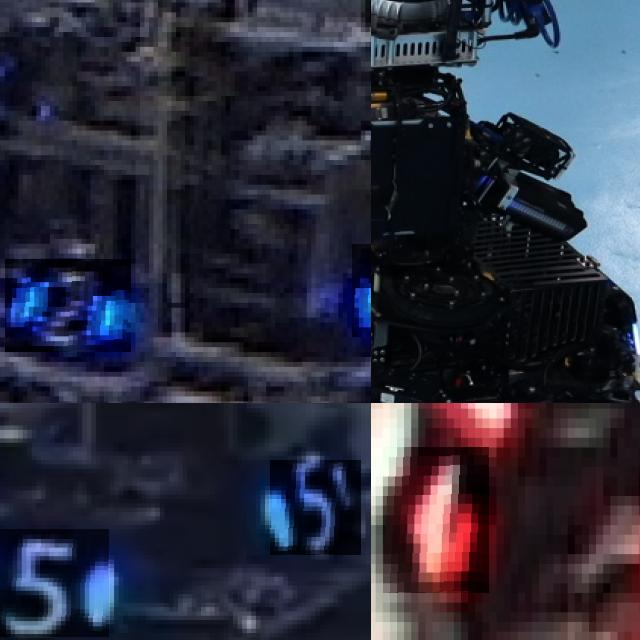B2: (5, 259, 131, 352), (351, 243, 371, 337)
B5: (0, 529, 109, 637), (270, 460, 361, 555)
R4: (383, 447, 489, 593)
